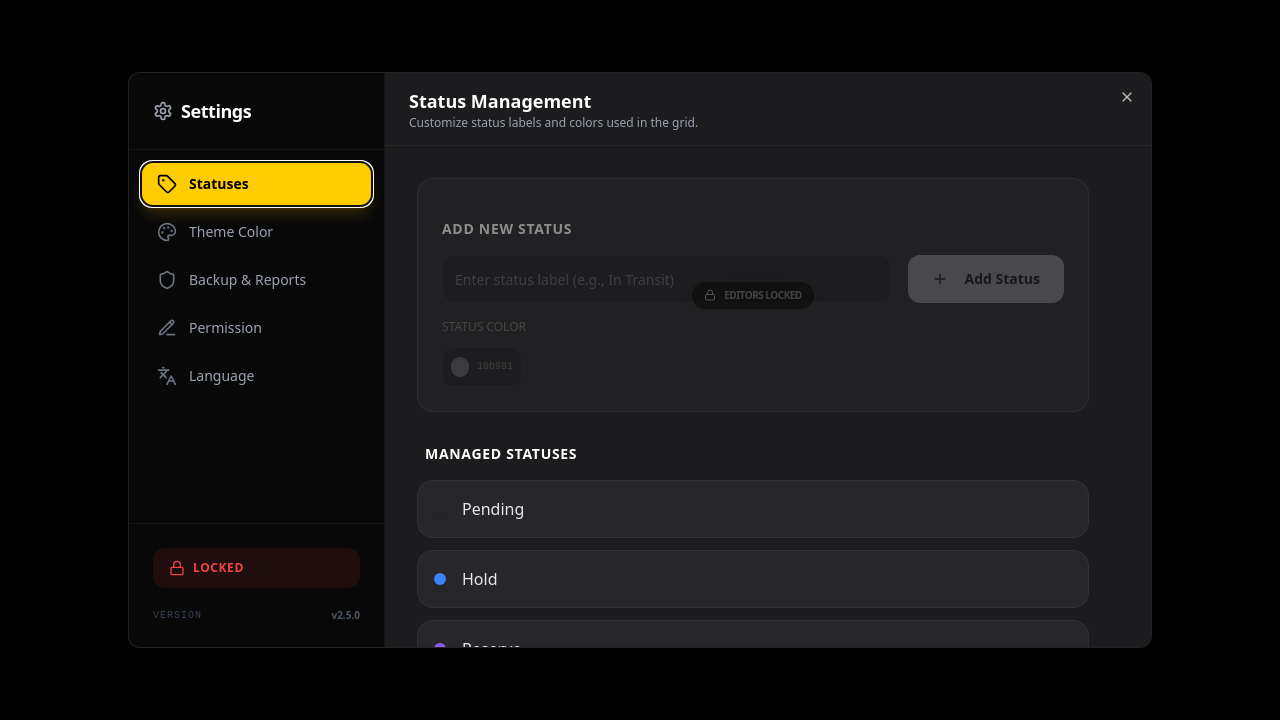
Scenario: SettingsModal i18n (Wave 4) › switches language from the Language tab while Settings is locked
Click the button "Language".
click(256, 376)  # box 141,354 -> 372,398
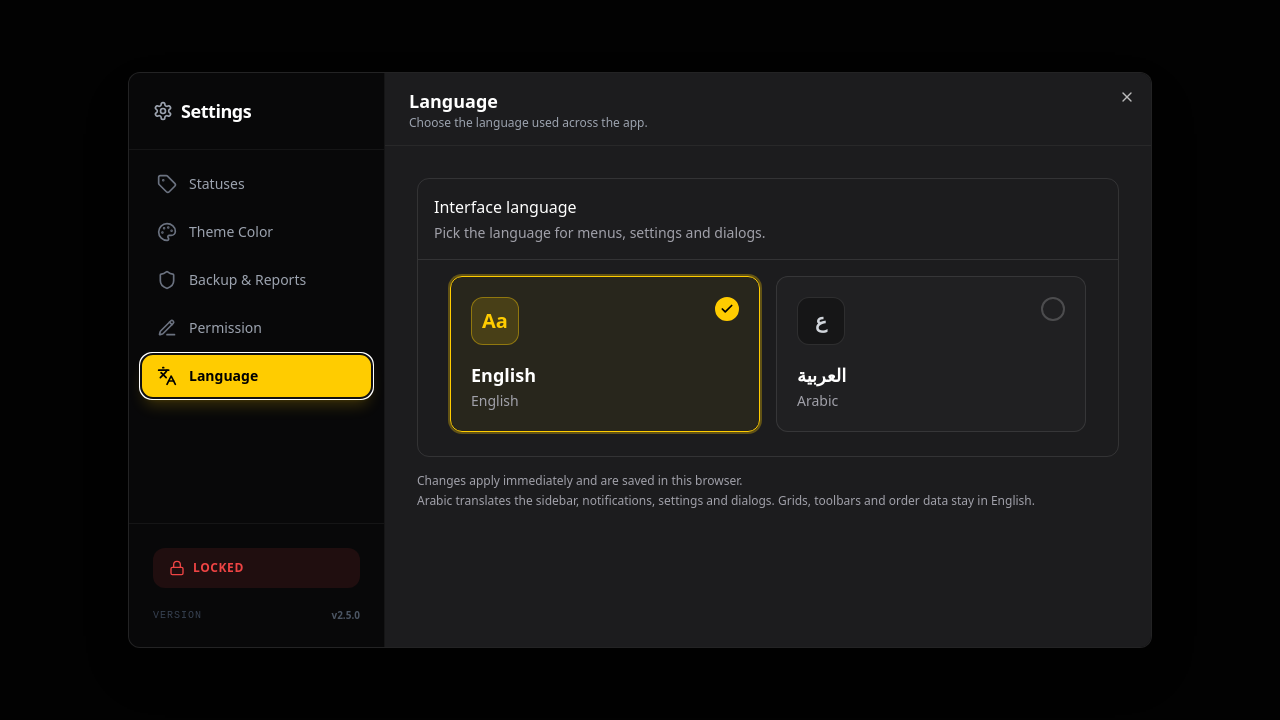
Click the radio button with aria-label "العربية, Arabic".
click(821, 321)  # box 776,276 -> 1086,432
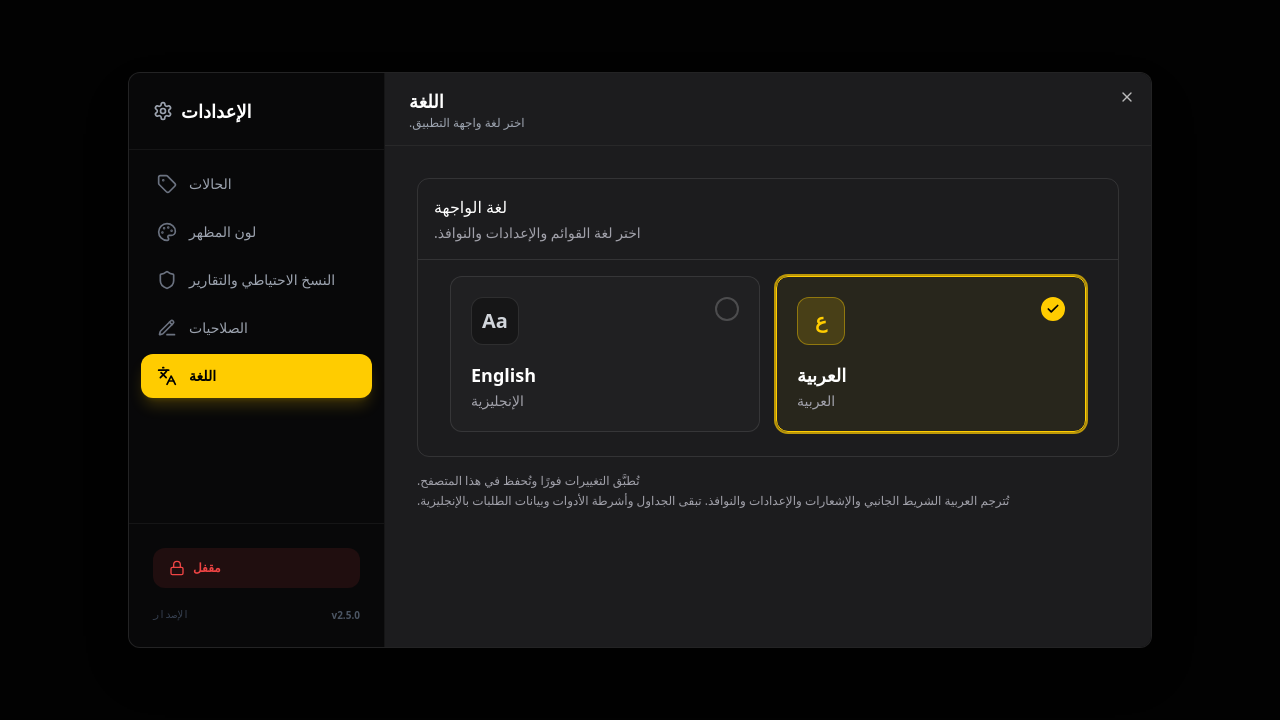
Now the dialog "الإعدادات" is shown
Now the text "اختر لغة واجهة التطبيق." is shown, box 409,114 -> 525,131
